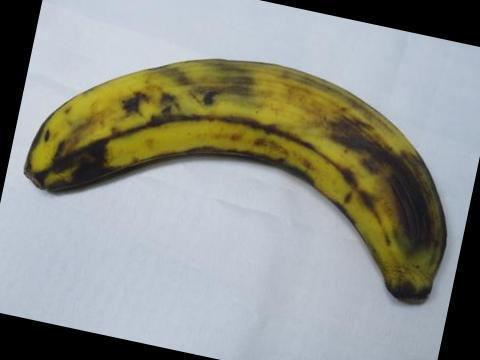overripe: (17, 49, 447, 307)
